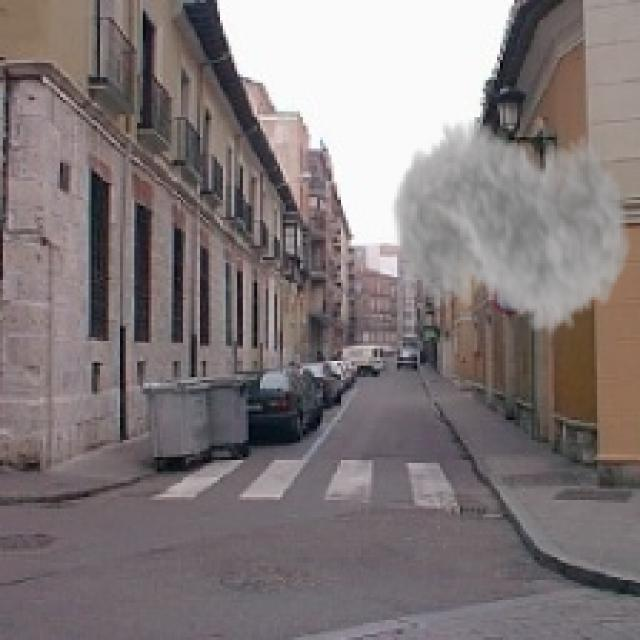smoke: (392, 92, 632, 354)
